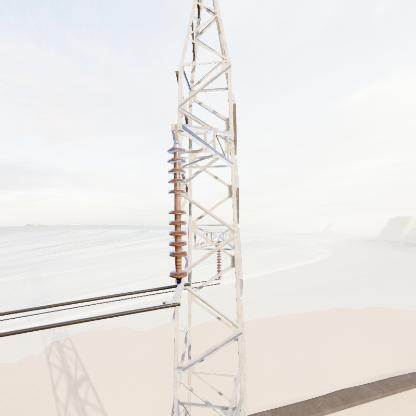insulator: (165, 144, 190, 283)
